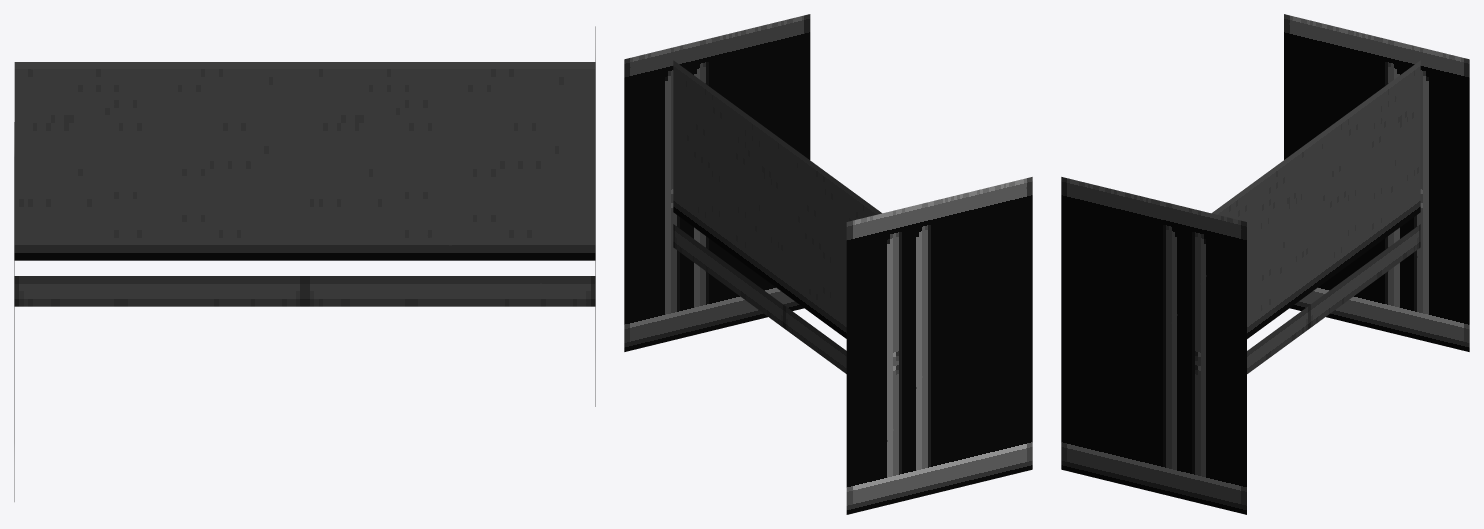
The model's file is metal_table_secondary_1.glb.
The picture shows the model from 3 angles, left to right: view 1: azimuth 30°, elevation 25°; view 2: azimuth 150°, elevation 25°; view 3: azimuth 270°, elevation 25°; orthographic projection. The views are drawn at different scales.
Visible parts, largest first — view 1: Object; view 2: Object; view 3: Object.
Part boxes in pixels (<box>): Object: <box>14,26,595,501</box>; Object: <box>624,14,1032,514</box>; Object: <box>1061,14,1469,514</box>.
Size of the model in its own units: 1.61 by 1.06 by 1.33.
3 materials, 3 textured.
